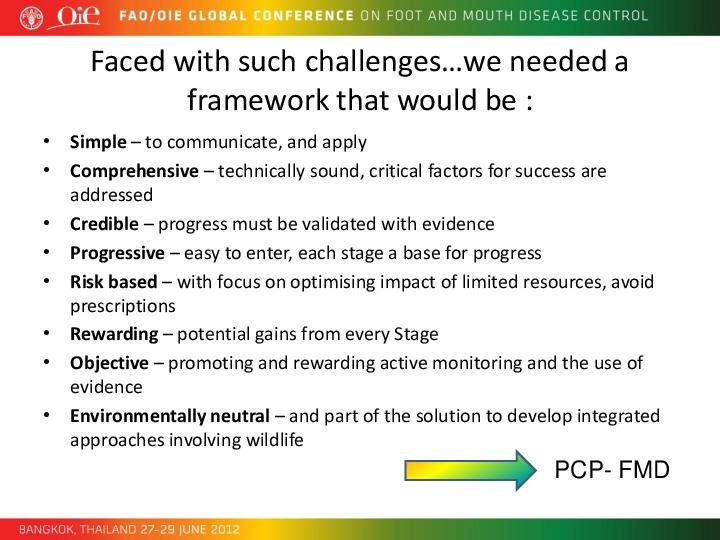paragraph: (32, 127, 694, 451)
subtitle: (83, 42, 645, 121)
title: (114, 3, 664, 31)
